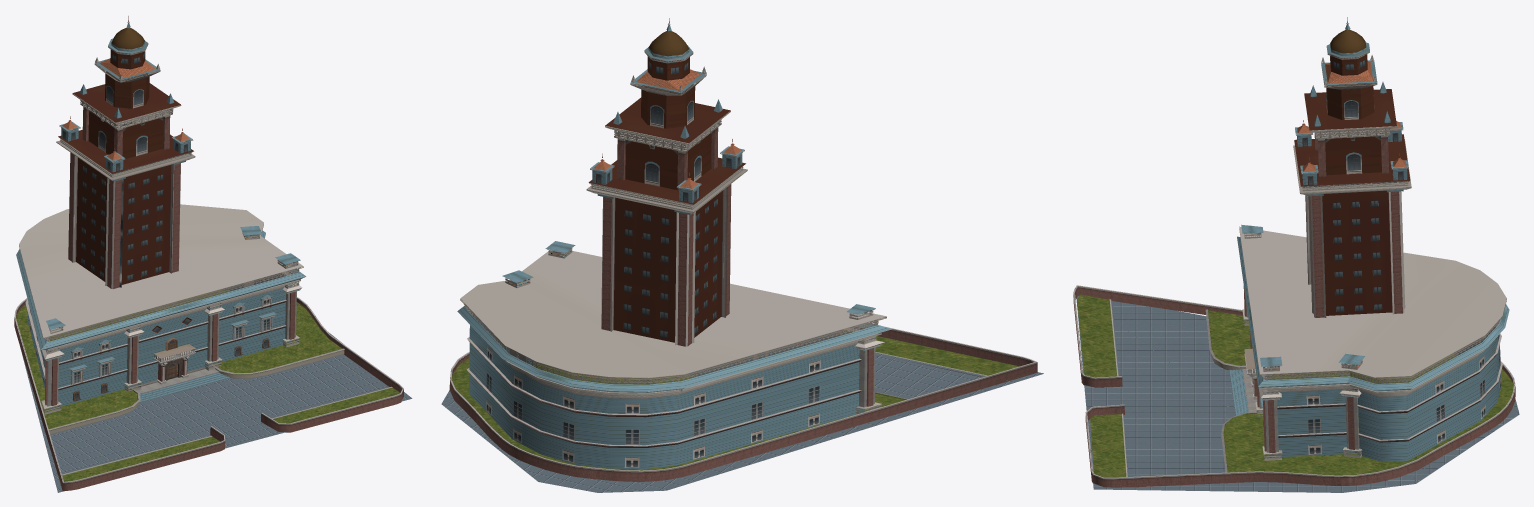
The model's file is HeroHouse.fbx.
3 renders of one model, left to right at view 1: azimuth 30°, elevation 25°; view 2: azimuth 150°, elevation 25°; view 3: azimuth 270°, elevation 25°, orthographic. The views are drawn at different scales.
Parts seen in each view (by area): view 1: polySurface180, polySurface319, polySurface1, polySurface3, polySurface466, polySurface388; view 2: polySurface180, polySurface319, polySurface3, polySurface1, polySurface466; view 3: polySurface180, polySurface319, polySurface1, polySurface3, polySurface466, polySurface388.
Part boxes in pixels (box(x1,y1,x2,y2)): polySurface180: box(16, 204, 344, 434); polySurface319: box(56, 21, 195, 288); polySurface1: box(24, 332, 412, 492); polySurface3: box(14, 297, 403, 490); polySurface466: box(58, 435, 220, 483); polySurface388: box(272, 386, 399, 423); polySurface180: box(441, 241, 907, 492); polySurface319: box(586, 23, 747, 346); polySurface3: box(449, 326, 1037, 481); polySurface1: box(734, 352, 1043, 466); polySurface466: box(844, 330, 1020, 380); polySurface180: box(1205, 224, 1519, 492); polySurface319: box(1293, 22, 1411, 317); polySurface1: box(1076, 296, 1344, 492); polySurface3: box(1073, 285, 1515, 487); polySurface466: box(1077, 294, 1118, 377); polySurface388: box(1090, 413, 1127, 477).
Bounding box in the file's own units: 9523 × 8484 × 8937.
Materials: 4 (4 with a texture image).
